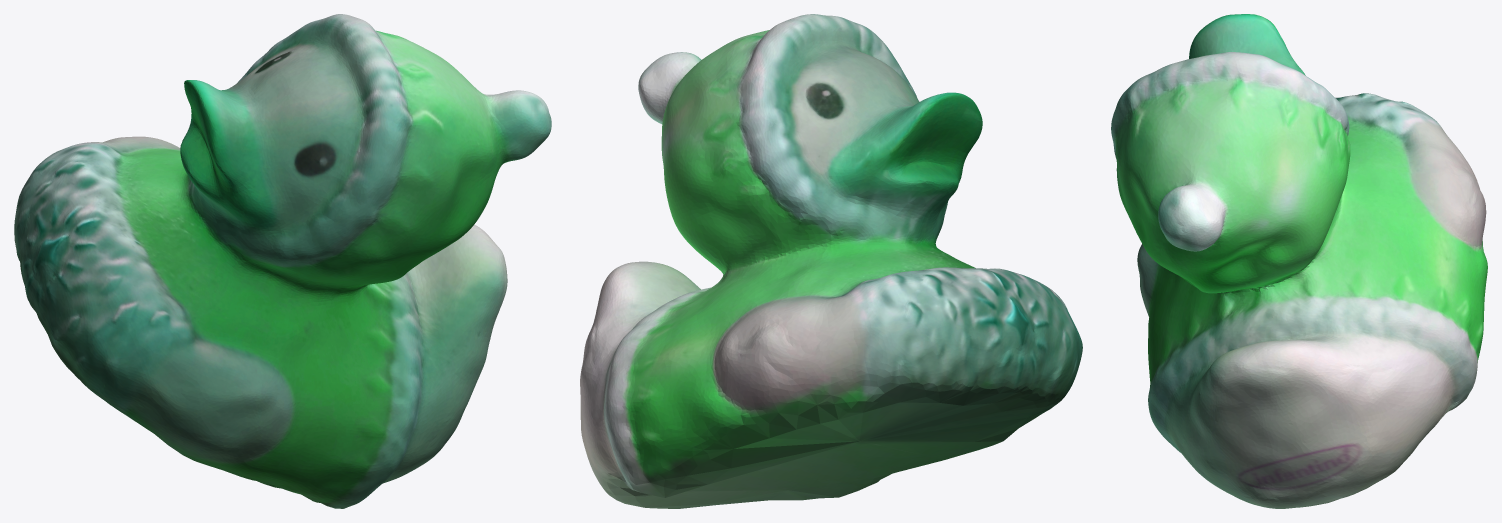
Rendered from 1774184436_1green-duck.glb.
3 views of the same model, side by side, from view 1: azimuth 30°, elevation 25°; view 2: azimuth 150°, elevation 25°; view 3: azimuth 270°, elevation 25° (orthographic). The views are drawn at different scales.
Visible parts, largest first — view 1: Mesh_0; view 2: Mesh_0; view 3: Mesh_0.
Boxes of the visible parts, bbox=[...] form: Mesh_0: bbox=[14, 14, 551, 508]; Mesh_0: bbox=[580, 14, 1082, 508]; Mesh_0: bbox=[1111, 14, 1487, 508].
Size of the model in its own units: 0.465 by 0.4632 by 0.3743.
Materials: 1 (1 with a texture image).
